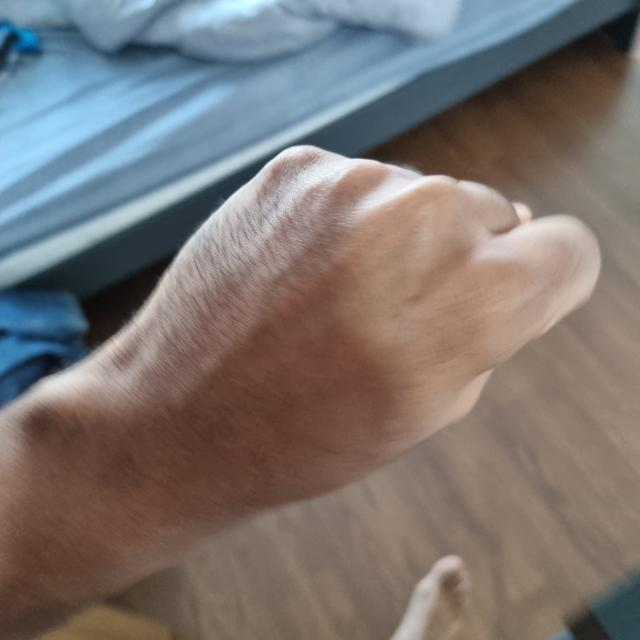Rock: (108, 155, 582, 508)
